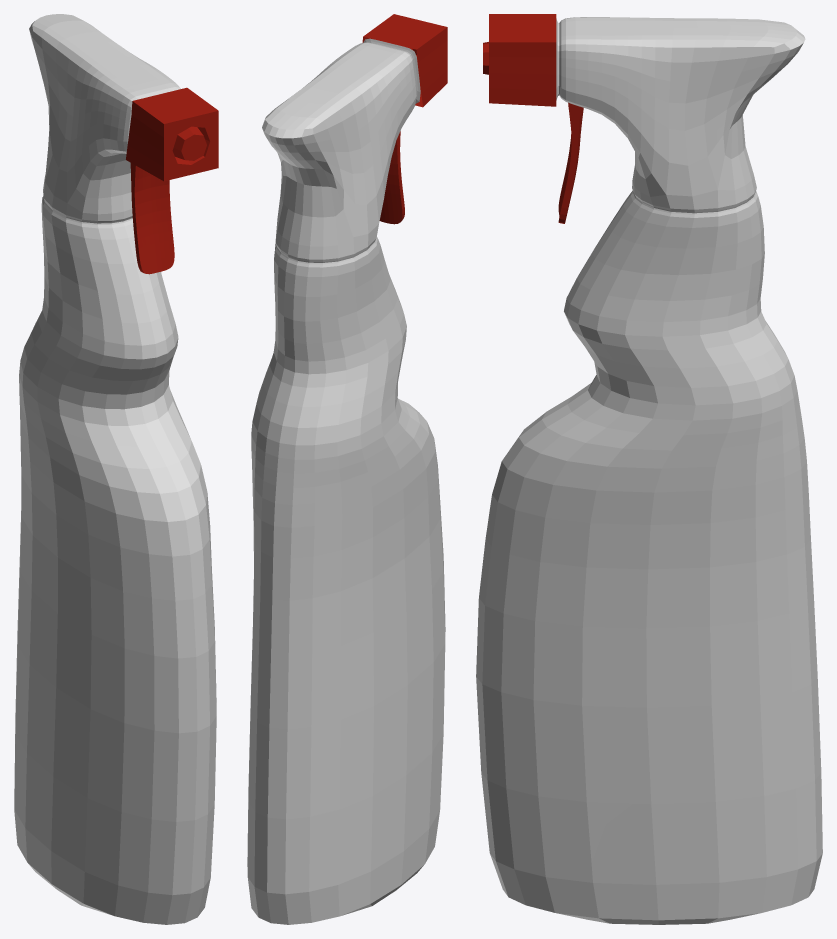
File: spraybottle.glb
The picture shows the model from 3 angles, left to right: view 1: azimuth 30°, elevation 25°; view 2: azimuth 150°, elevation 25°; view 3: azimuth 270°, elevation 25°; orthographic projection. The views are drawn at different scales.
Parts seen in each view (by area): view 1: Cube; view 2: Cube; view 3: Cube.
Boxes of the visible parts, x1,y1,x2,y2 form: Cube: [14, 14, 218, 924]; Cube: [247, 14, 447, 924]; Cube: [476, 14, 822, 924].
Bounding box in the file's own units: 2.9 × 18.4 × 6.65.
